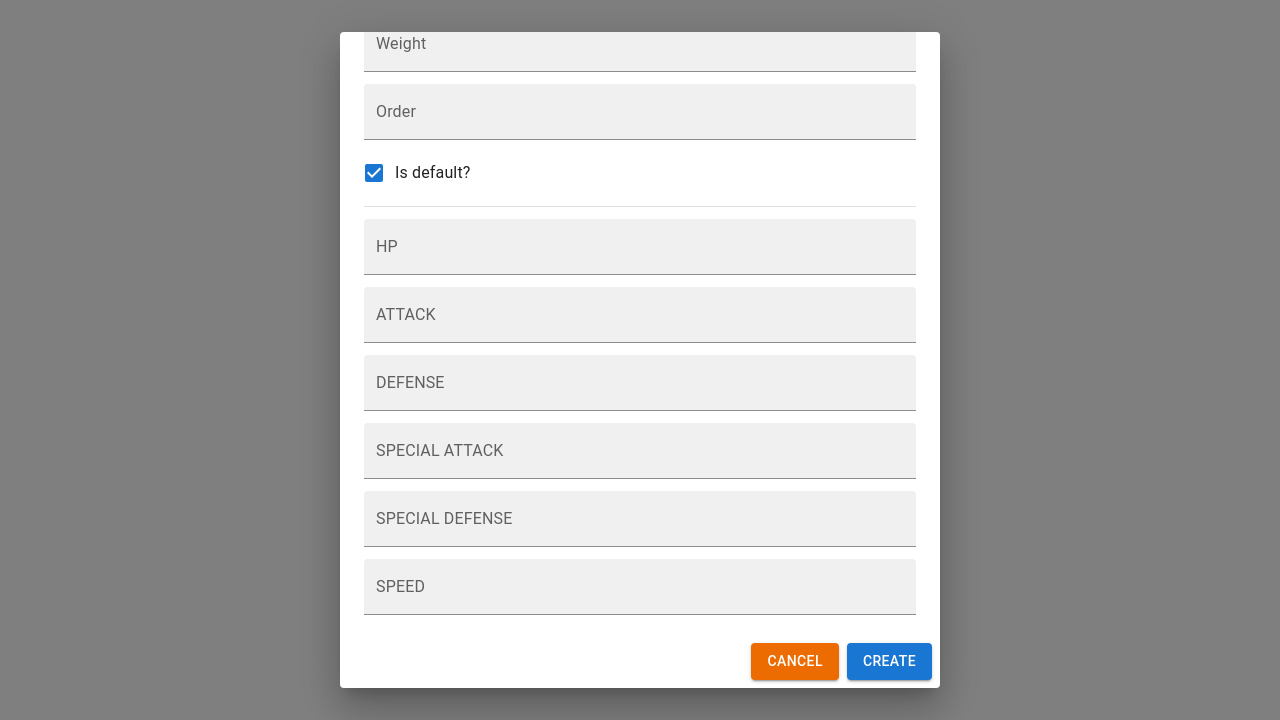
[COMPONENT] - PokemonForm › form should not save if any data is missing
(page scrolled)
Step 1. Click the button "Create" → click(889, 661), box [847,643,932,680]
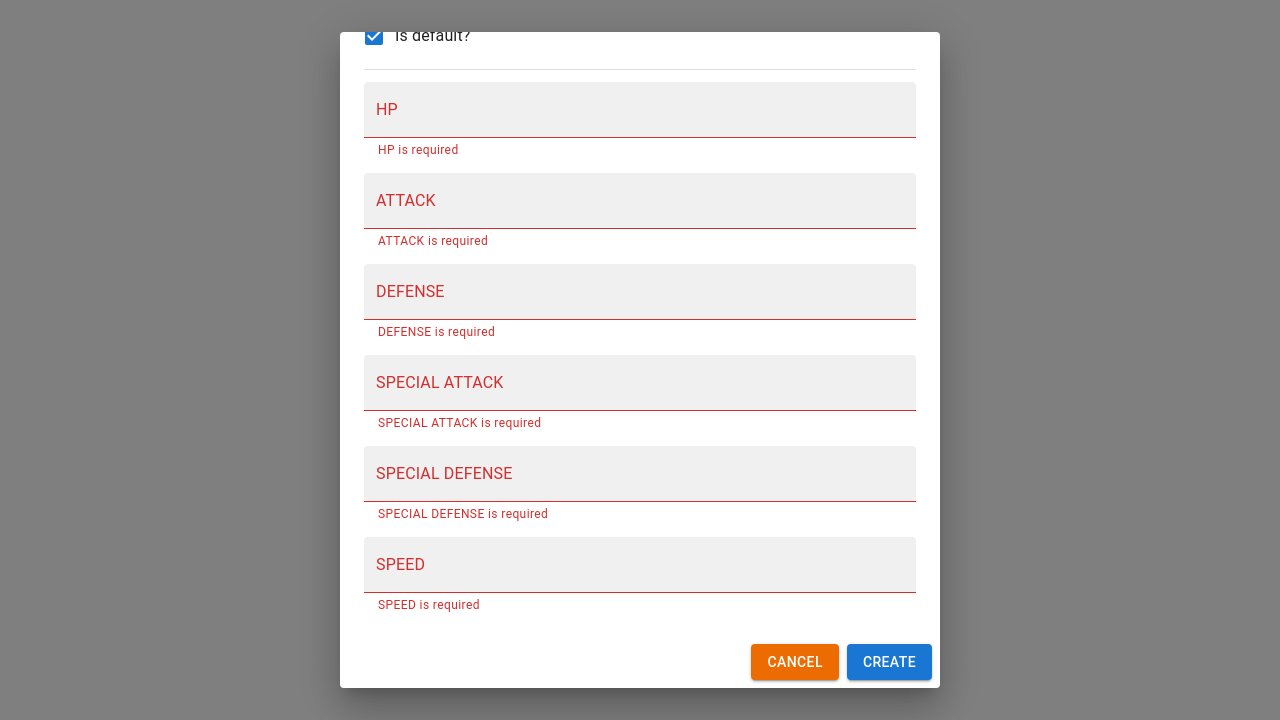
Expected: the text "HP is required" is shown, [378,143,459,157]
Expected: the text "ATTACK is required" is shown, [378,234,488,248]
Expected: the text "DEFENSE is required" is shown, [378,325,495,339]
